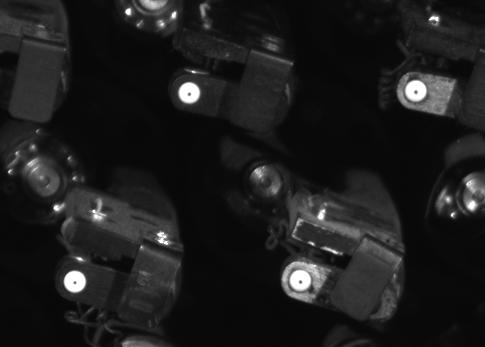fiber: (401, 77, 435, 111), (175, 76, 207, 108), (61, 268, 93, 299), (283, 265, 317, 294)
